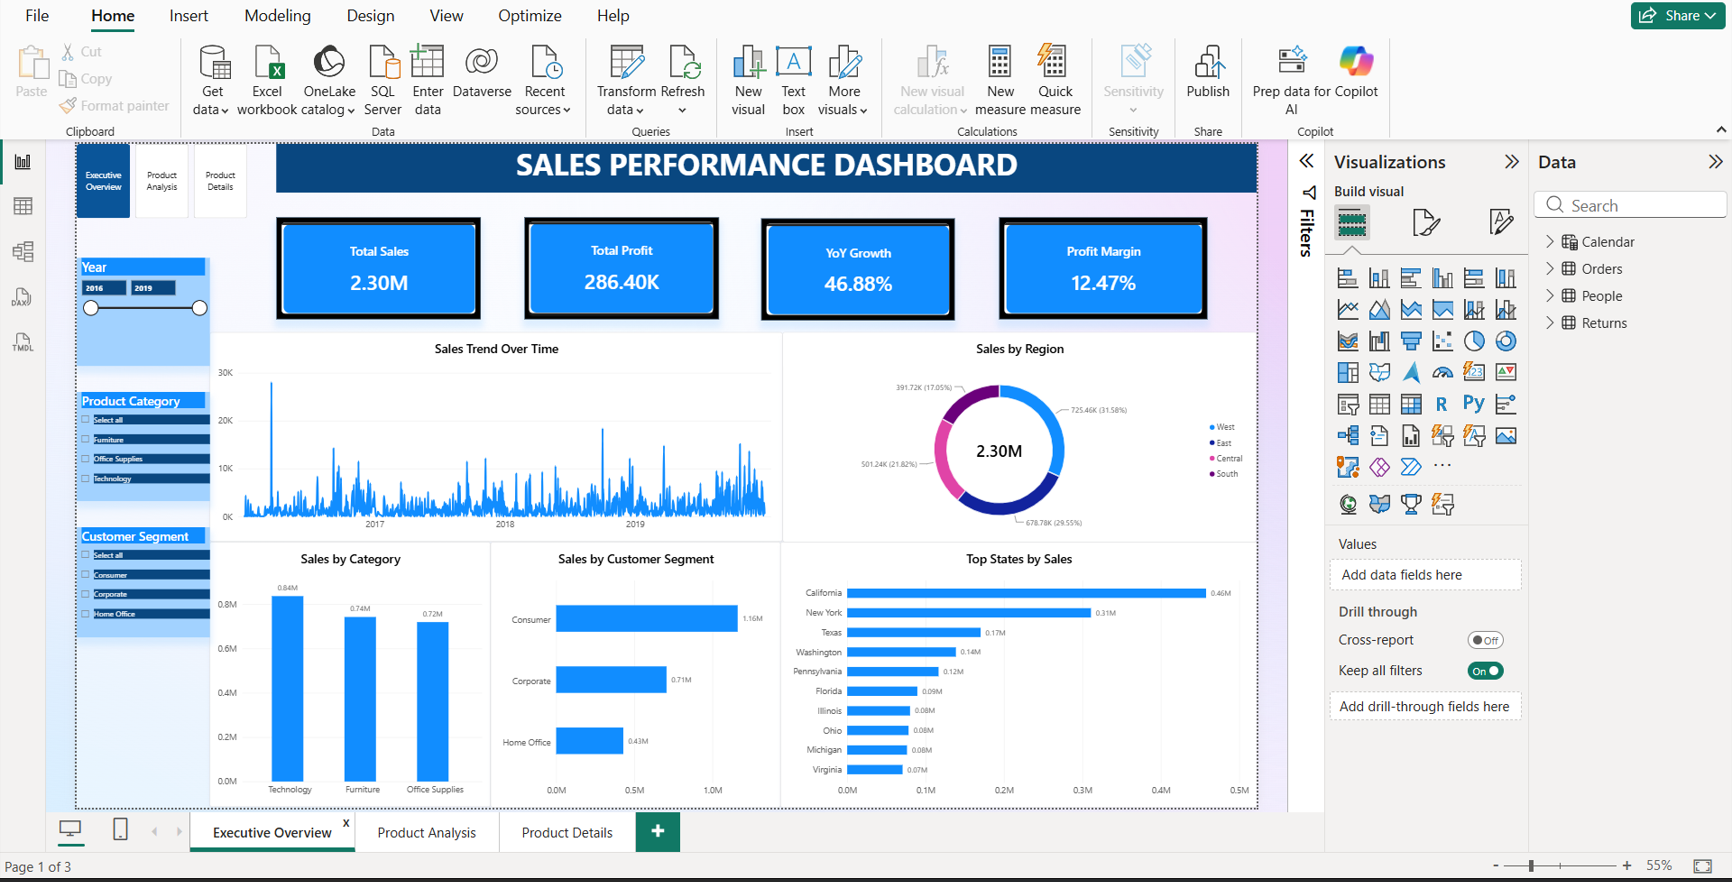

What the dashboard file says about the page in this screenshot:
{"tool":"powerbi","page":{"name":"Executive Overview","canvas":[1920,1080],"ordinal":0},"visuals":[{"type":"cardVisual","fields":{"Data":["Orders.Total Sales"]},"box":[324.7,119.2,333.8,166.9],"z":0},{"type":"cardVisual","fields":{"Data":["Orders.Total Profit"]},"box":[728.2,119.2,317.3,166.9],"z":1000},{"type":"cardVisual","fields":{"Data":["Orders.Profit Margin %"]},"box":[1500.2,119.4,339.3,166.9],"z":2000},{"type":"cardVisual","fields":{"Data":["Orders.YoY Growth %"]},"box":[1113.4,121.1,315.5,166.9],"z":3000},{"type":"lineChart","title":"Sales Trend Over Time","fields":{"Category":["Calendar.Date.Variation.Date Hierarchy.Year","Calendar.Date.Variation.Date Hierarchy.Quarter","Calendar.Date.Variation.Date Hierarchy.Month","Calendar.Date.Variation.Date Hierarchy.Day"],"Y":["Orders.Total Sales"]},"box":[216.4,306.3,931.8,341.2],"z":4000},{"type":"donutChart","title":"Sales by Region","fields":{"Category":["Orders.Region"],"Y":["Orders.Total Sales"]},"box":[1149.1,305.8,771.3,341.8],"z":5000},{"type":"clusteredColumnChart","title":"Sales by Category","fields":{"Category":["Orders.Category"],"Y":["Orders.Total Sales"]},"box":[216.4,647.5,456.7,431],"z":6000},{"type":"clusteredBarChart","title":"Sales by Customer Segment","fields":{"Category":["Orders.Segment"],"Y":["Orders.Total Sales"]},"box":[672.4,647.6,472.2,431.8],"z":7000},{"type":"clusteredBarChart","title":"Top States by Sales","fields":{"Category":["Orders.State"],"Y":["Orders.Total Sales"]},"box":[1144.6,647.6,775.8,431.8],"z":8000},{"type":"slicer","fields":{"Values":["Calendar.Year"]},"box":[0,185.3,216.4,176.1],"z":9000},{"type":"slicer","fields":{"Values":["Orders.Category"]},"box":[0,403.5,216.6,177.4],"z":11000},{"type":"slicer","fields":{"Values":["Orders.Segment"]},"box":[0,623.6,216.6,179.5],"z":12000},{"type":"textbox","box":[324.7,0,1595.8,78.9],"z":13000},{"type":"pageNavigator","box":[0,0,278.8,121.1],"z":13001}]}

Visuals, with their boxes on the page's 1920x1080 design canvas (x1, y1, x2, y2). These are canvas units, not pixel positions in the 1732x882 screenshot, which may show the page scaled, cropped or inside an application window:
cardVisual - Orders.Total Sales: bbox(325, 119, 658, 286)
cardVisual - Orders.Total Profit: bbox(728, 119, 1046, 286)
cardVisual - Orders.Profit Margin %: bbox(1500, 119, 1840, 286)
cardVisual - Orders.YoY Growth %: bbox(1113, 121, 1429, 288)
"Sales Trend Over Time" lineChart: bbox(216, 306, 1148, 648)
"Sales by Region" donutChart: bbox(1149, 306, 1920, 648)
"Sales by Category" clusteredColumnChart: bbox(216, 648, 673, 1078)
"Sales by Customer Segment" clusteredBarChart: bbox(672, 648, 1145, 1079)
"Top States by Sales" clusteredBarChart: bbox(1145, 648, 1920, 1079)
slicer - Calendar.Year: bbox(0, 185, 216, 361)
slicer - Orders.Category: bbox(0, 404, 217, 581)
slicer - Orders.Segment: bbox(0, 624, 217, 803)
textbox: bbox(325, 0, 1920, 79)
pageNavigator: bbox(0, 0, 279, 121)
